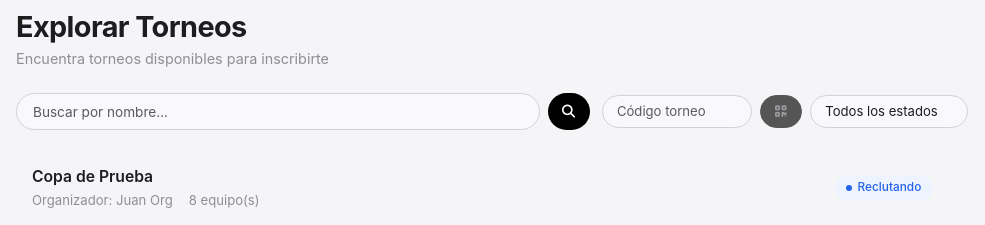
it: BrowseTournaments › hace una busqueda por nombre
This screenshot has width=985, height=225.
Expected: the text "Copa de Prueba" is shown, [32,166,153,186]
Type "Copa" into the field with class "bt-search-input".
click(278, 112); type("Copa")  # box [16,93,540,130]
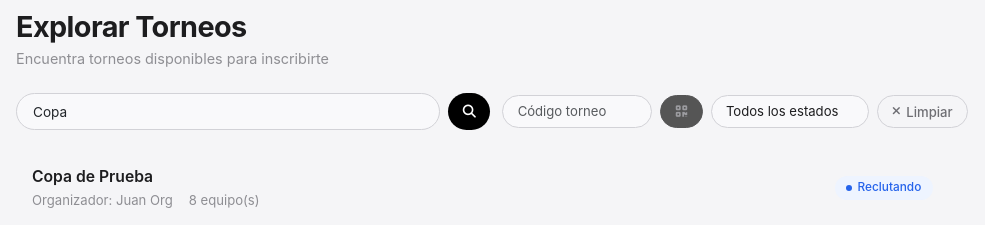
Submit the form with class "bt-search-form", box [16,93,490,130]
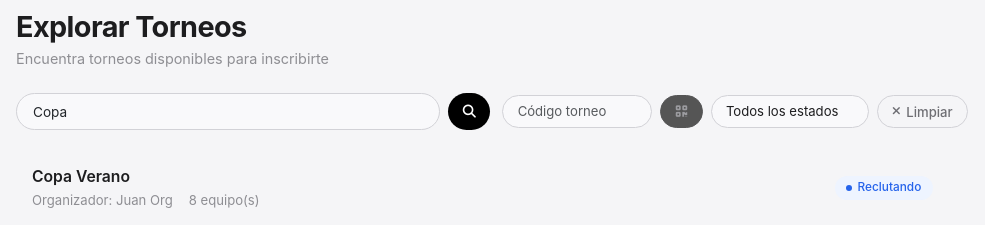
Expected: the text "Copa Verano" is shown, [32,166,130,186]
Expected: the link "Copa de Prueba" is gone
